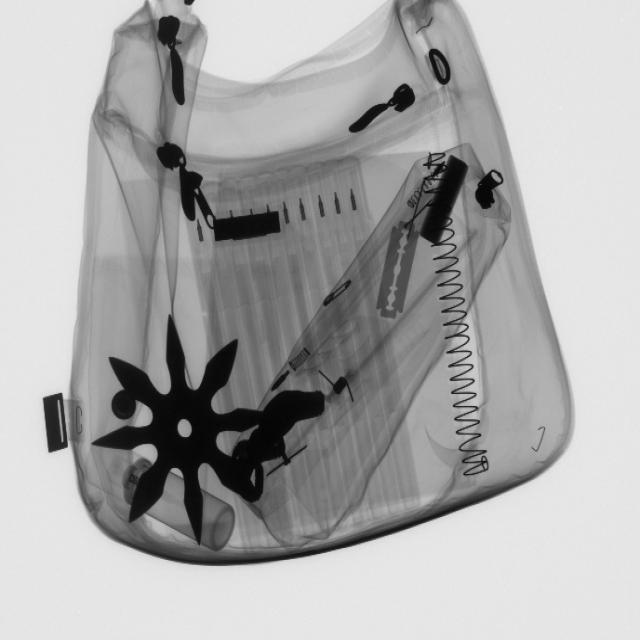BLADE: (372, 217, 422, 326)
SHURIKEN: (93, 314, 282, 545)
